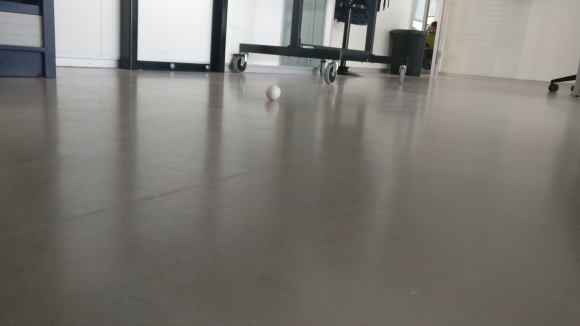egg: (265, 83, 281, 101)
